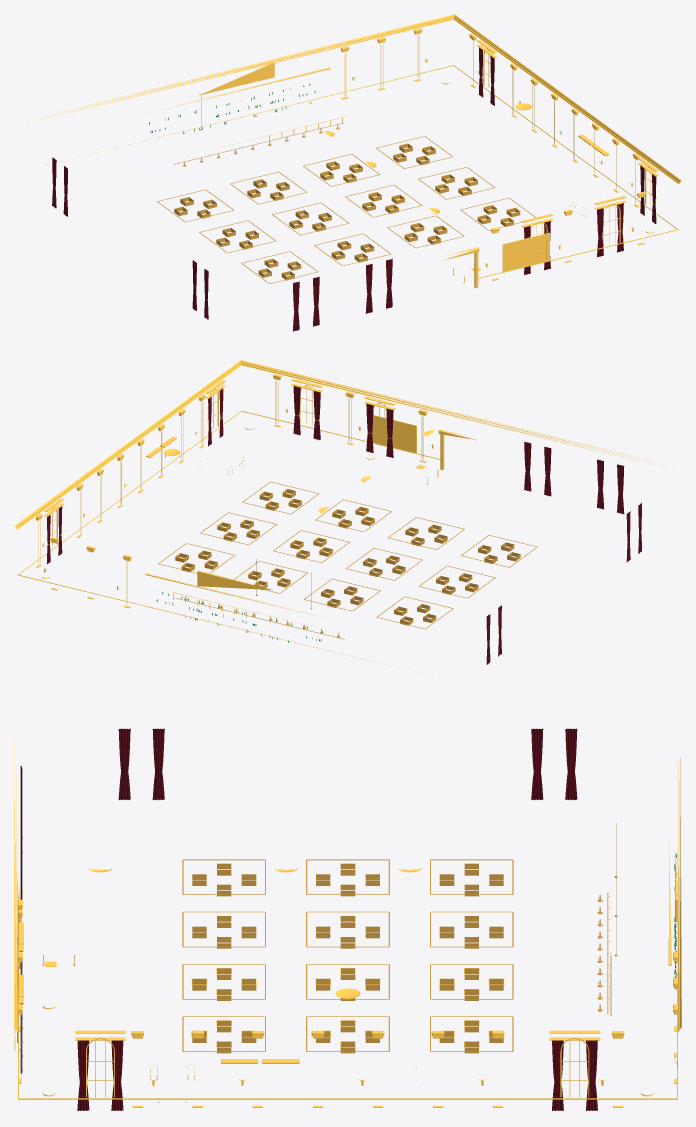
File: lb4_lounge_p2.glb
3 renders of one model, top to bottom at view 1: azimuth 30°, elevation 25°; view 2: azimuth 150°, elevation 25°; view 3: azimuth 270°, elevation 25°, orthographic. The views are drawn at different scales.
Parts seen in each view (by area): view 1: lb4_lounge_p2; view 2: lb4_lounge_p2; view 3: lb4_lounge_p2.
Part boxes in pixels (box(x1,y1,x2,y2)): lb4_lounge_p2: box(28, 14, 681, 331); lb4_lounge_p2: box(14, 360, 663, 666); lb4_lounge_p2: box(14, 728, 681, 1110).
Size of the model in its own units: 72.68 by 10.6 by 64.76.
Materials: 5 (1 with a texture image).
